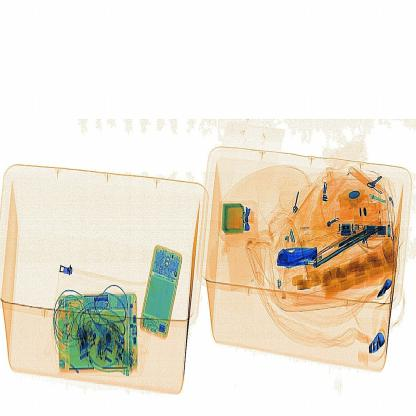knife: (274, 238, 325, 268)
